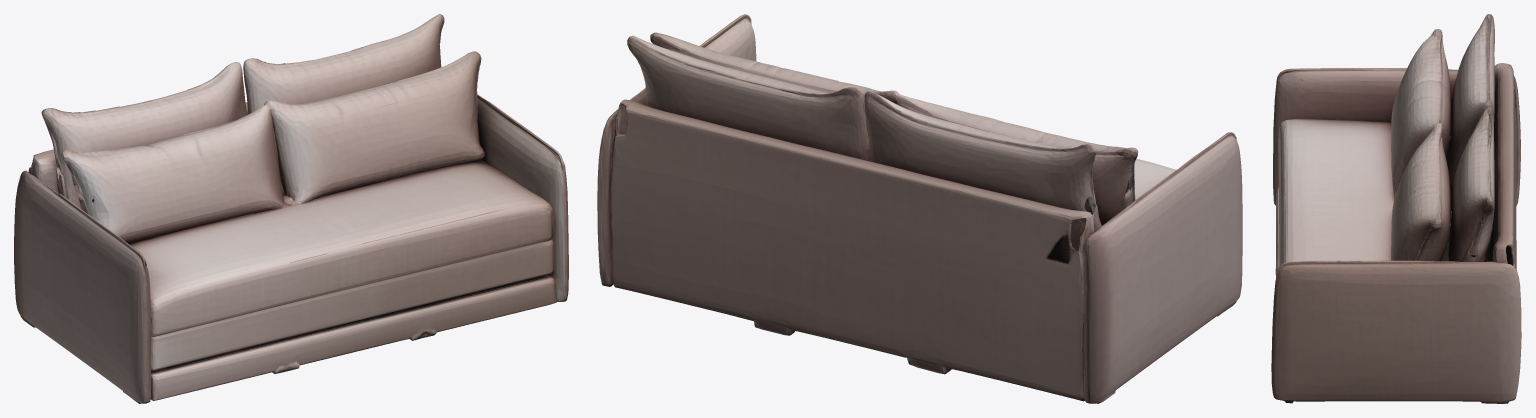
The model's file is SOFÁ CAMA UGANDA.glb.
The picture shows the model from 3 angles, left to right: view 1: azimuth 30°, elevation 25°; view 2: azimuth 150°, elevation 25°; view 3: azimuth 270°, elevation 25°; orthographic projection. The views are drawn at different scales.
Parts seen in each view (by area): view 1: world; view 2: world; view 3: world.
Boxes of the visible parts, x1,y1,x2,y2 form: world: (14, 14, 568, 403); world: (597, 14, 1242, 403); world: (1271, 14, 1521, 403).
Bounding box in the file's own units: 0.9942 × 0.475 × 0.5229.
Materials: 1 (1 with a texture image).
